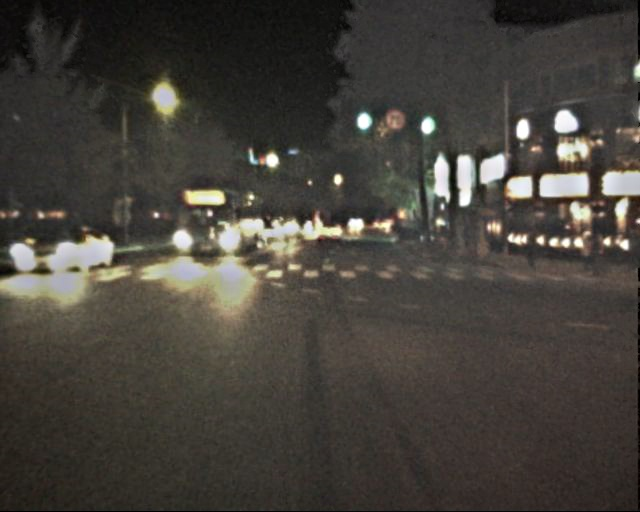person: (618, 230, 640, 273), (577, 235, 600, 270), (523, 226, 541, 269)
